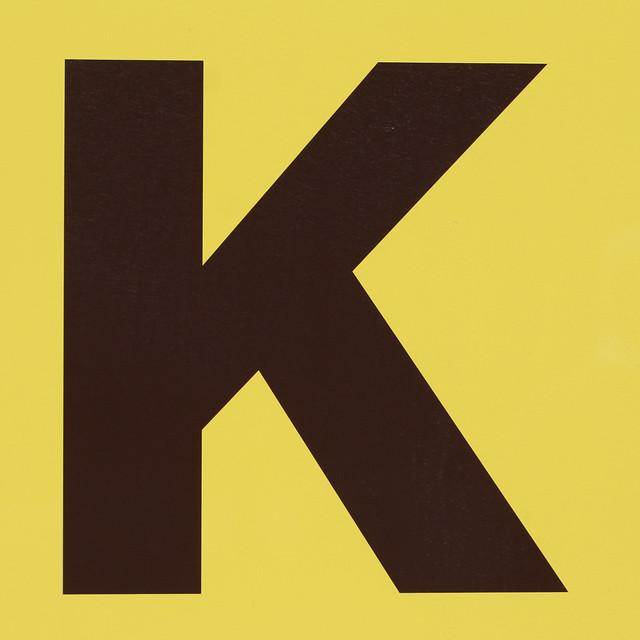K: (12, 25, 583, 629)
